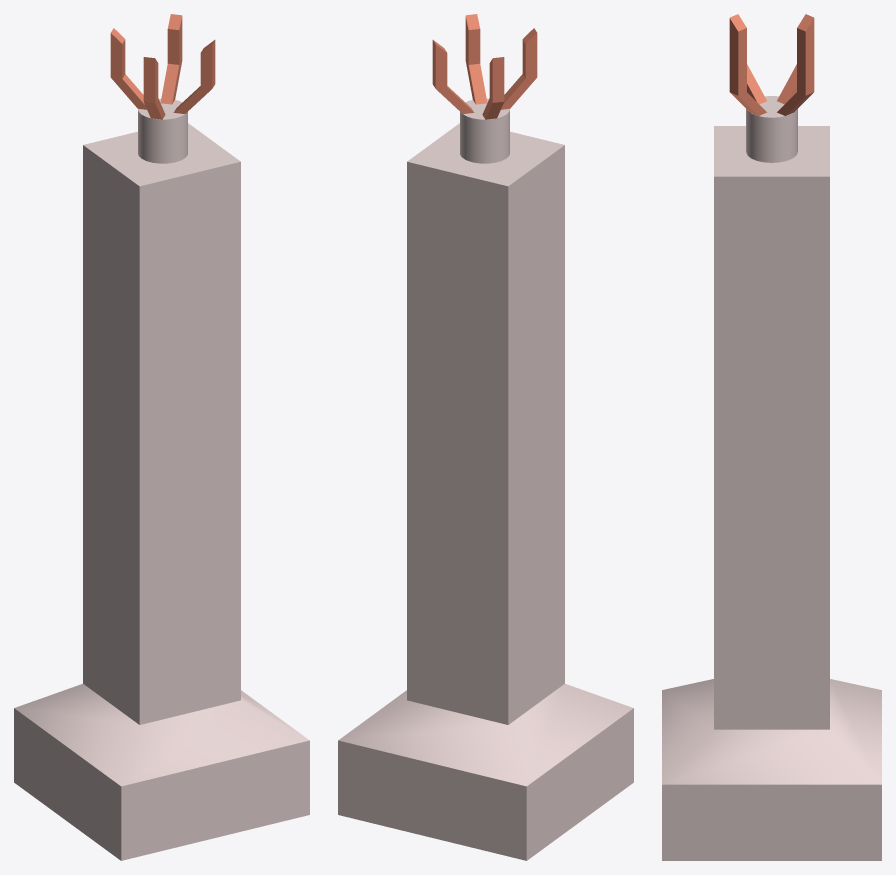
Rendered from gem_holder.fbx.
3 views of the same model, side by side, from view 1: azimuth 30°, elevation 25°; view 2: azimuth 150°, elevation 25°; view 3: azimuth 270°, elevation 25° (orthographic). The views are drawn at different scales.
Visible parts, largest first — view 1: pCube15, pCylinder12, pCube17, pCube16, pCube18, pCube19; view 2: pCube15, pCylinder12, pCube18, pCube19, pCube17, pCube16; view 3: pCube15, pCylinder12, pCube17, pCube18, pCube16, pCube19.
Boxes of the visible parts, bbox=[...] form: pCube15: bbox=[14, 123, 309, 860]; pCylinder12: bbox=[138, 98, 187, 163]; pCube17: bbox=[160, 14, 182, 104]; pCube16: bbox=[110, 28, 146, 109]; pCube18: bbox=[173, 40, 215, 113]; pCube19: bbox=[143, 57, 165, 119]; pCube15: bbox=[338, 123, 633, 860]; pCylinder12: bbox=[460, 98, 509, 163]; pCube18: bbox=[465, 14, 487, 104]; pCube19: bbox=[501, 28, 537, 109]; pCube17: bbox=[432, 40, 474, 113]; pCube16: bbox=[482, 57, 504, 119]; pCube15: bbox=[662, 126, 881, 860]; pCylinder12: bbox=[746, 96, 797, 162]; pCube17: bbox=[777, 46, 814, 115]; pCube18: bbox=[729, 46, 766, 115]; pCube16: bbox=[777, 14, 814, 104]; pCube19: bbox=[729, 14, 766, 104].
Size of the model in its own units: 18.14 by 70.06 by 17.83.
